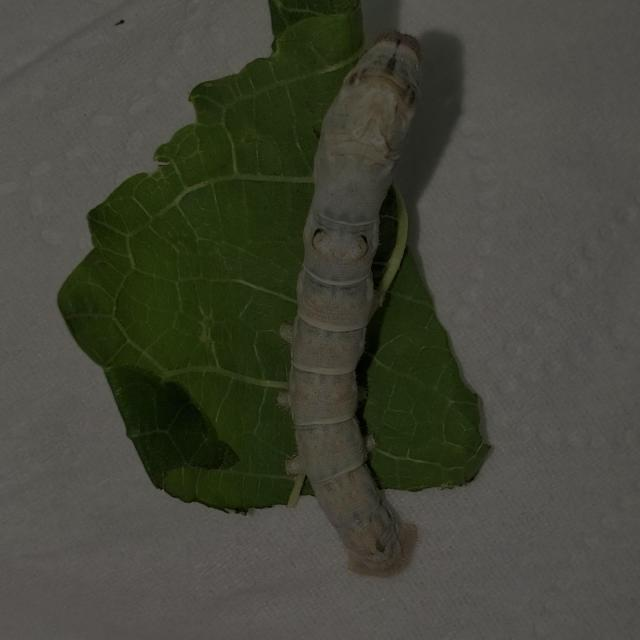Healthy: (270, 27, 443, 582)
